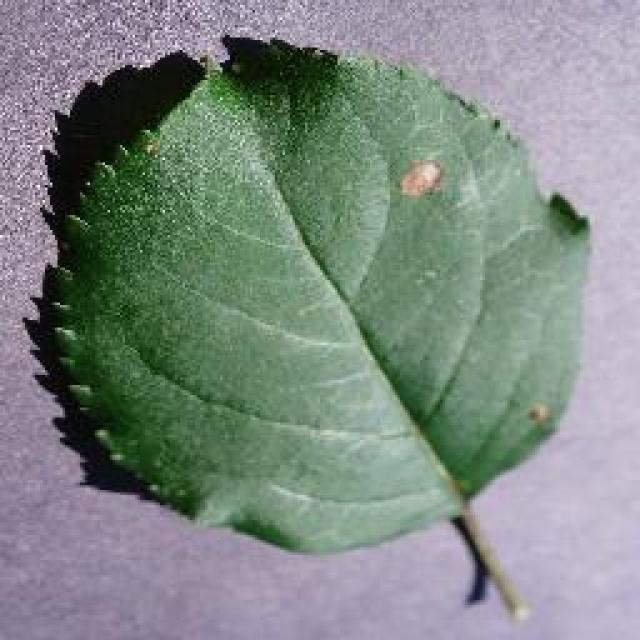Black_rot: (32, 30, 592, 618)
